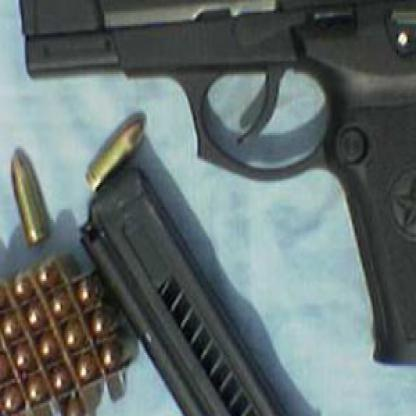gun: (16, 0, 414, 372)
